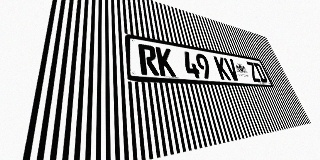4: (181, 51, 201, 78)
9: (194, 53, 213, 79)
D: (253, 62, 268, 83)
K: (155, 46, 176, 77), (213, 56, 231, 80)
R: (138, 44, 159, 76)
V: (223, 58, 241, 81)
Z: (245, 61, 261, 82)
